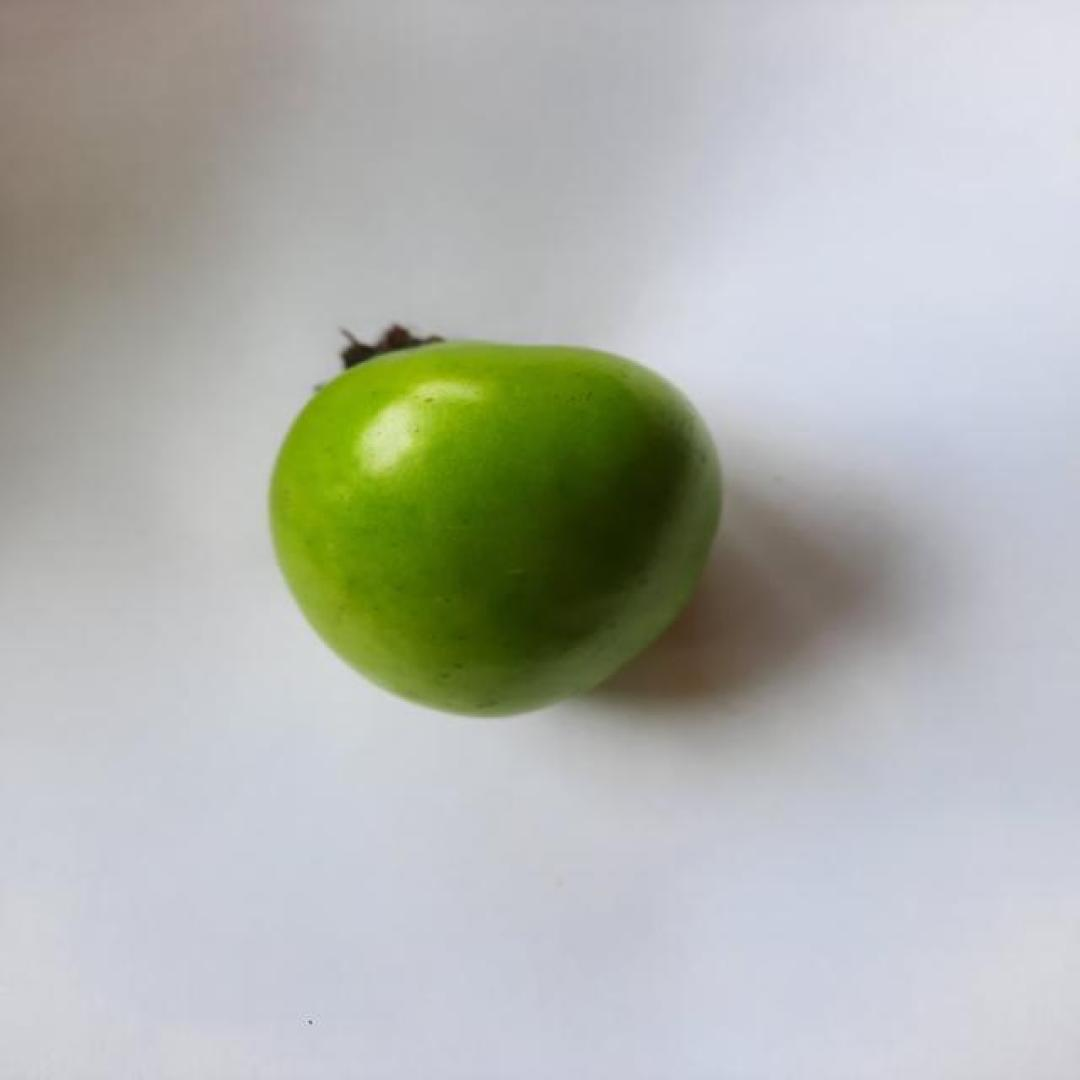mentah: (263, 319, 726, 721)
